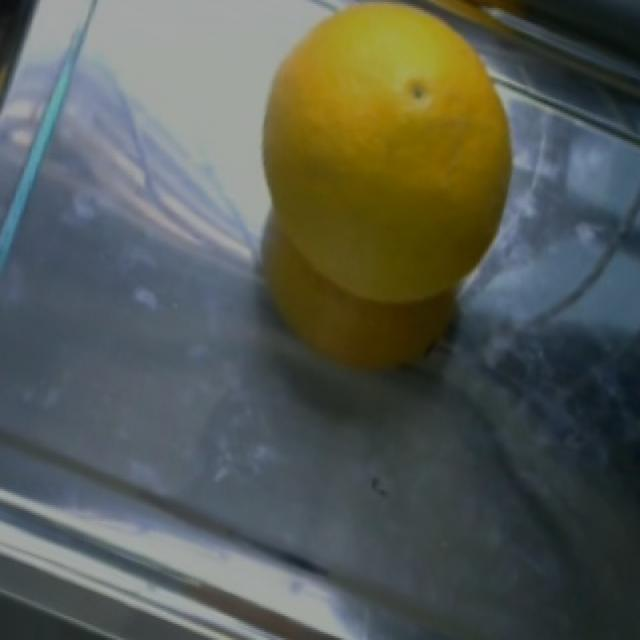Fruit: (238, 0, 538, 308)
